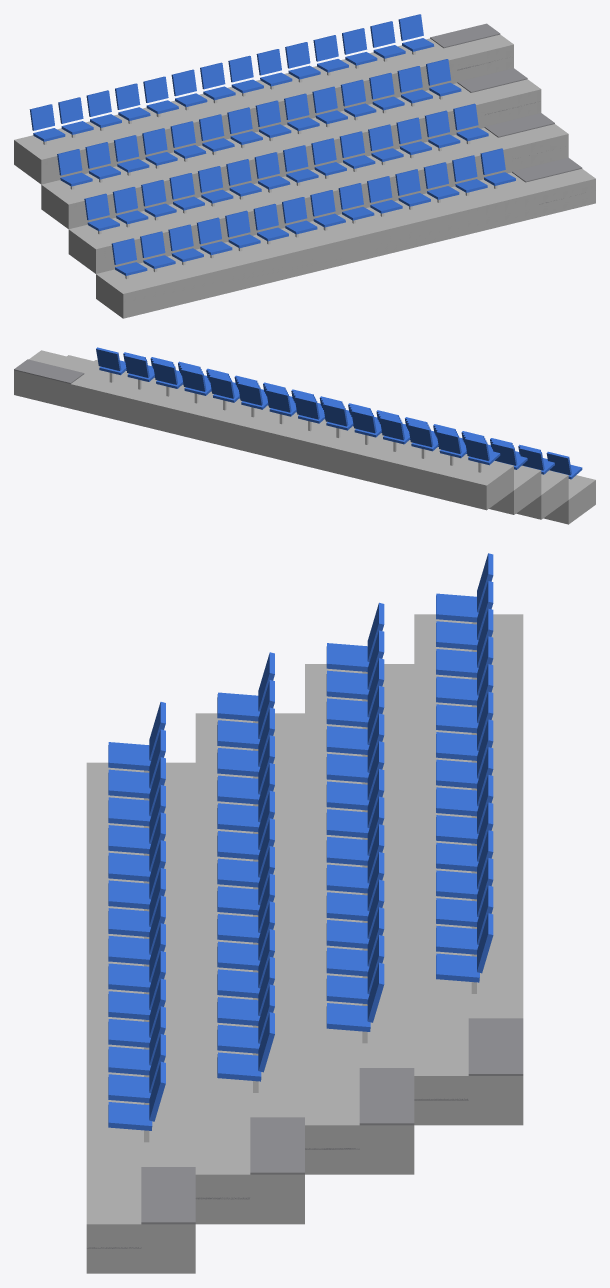
Rendered from Stadium seating.glb.
3 views of the same model, one above another, from view 1: azimuth 30°, elevation 25°; view 2: azimuth 150°, elevation 25°; view 3: azimuth 270°, elevation 25° (orthographic). The views are drawn at different scales.
Parts seen in each view (by area): view 1: MetaAthletics_Tier_0_Concrete, MetaAthletics_Tier_2_Concrete, MetaAthletics_Tier_1_Concrete, MetaAthletics_Tier_3_Concrete, MetaAthletics_Tier_3_Stair_2, MetaAthletics_Tier_1_Stair_2, MetaAthletics_Tier_2_Stair_2, MetaAthletics_Tier_0_Stair_2, MetaAthletics_Seat_3_7_Back, MetaAthletics_Seat_0_2_Back, MetaAthletics_Seat_0_4_Back, MetaAthletics_Seat_0_12_Back (+52 smaller); view 2: MetaAthletics_Tier_3_Concrete, MetaAthletics_Tier_2_Concrete, MetaAthletics_Tier_1_Concrete, MetaAthletics_Tier_0_Concrete, MetaAthletics_Tier_3_Stair_2, MetaAthletics_Seat_3_2_Back, MetaAthletics_Seat_3_11_Back, MetaAthletics_Seat_3_12_Back, MetaAthletics_Seat_3_1_Back, MetaAthletics_Seat_3_4_Back, MetaAthletics_Seat_3_5_Back, MetaAthletics_Seat_3_6_Back (+10 smaller); view 3: MetaAthletics_Tier_1_Concrete, MetaAthletics_Tier_0_Concrete, MetaAthletics_Tier_3_Concrete, MetaAthletics_Tier_2_Concrete, MetaAthletics_Tier_3_Stair_2, MetaAthletics_Tier_2_Stair_2, MetaAthletics_Tier_0_Stair_2, MetaAthletics_Tier_1_Stair_2, MetaAthletics_Seat_1_13_Pan, MetaAthletics_Seat_2_13_Pan, MetaAthletics_Seat_0_13_Pan, MetaAthletics_Seat_3_13_Pan (+52 smaller).
Boxes of the visible parts, x1=… form: MetaAthletics_Tier_0_Concrete: x1=96, y1=168, x2=595, y2=318; MetaAthletics_Tier_2_Concrete: x1=41, y1=79, x2=541, y2=229; MetaAthletics_Tier_1_Concrete: x1=68, y1=124, x2=568, y2=273; MetaAthletics_Tier_3_Concrete: x1=14, y1=34, x2=513, y2=184; MetaAthletics_Tier_3_Stair_2: x1=430, y1=23, x2=500, y2=48; MetaAthletics_Tier_1_Stair_2: x1=484, y1=113, x2=554, y2=137; MetaAthletics_Tier_2_Stair_2: x1=457, y1=68, x2=527, y2=92; MetaAthletics_Tier_0_Stair_2: x1=512, y1=157, x2=582, y2=182; MetaAthletics_Seat_3_7_Back: x1=228, y1=55, x2=253, y2=82; MetaAthletics_Seat_0_2_Back: x1=168, y1=224, x2=193, y2=250; MetaAthletics_Seat_0_4_Back: x1=225, y1=210, x2=250, y2=237; MetaAthletics_Seat_0_12_Back: x1=452, y1=155, x2=477, y2=181; MetaAthletics_Tier_3_Concrete: x1=14, y1=350, x2=513, y2=510; MetaAthletics_Tier_2_Concrete: x1=67, y1=355, x2=541, y2=514; MetaAthletics_Tier_1_Concrete: x1=94, y1=360, x2=568, y2=519; MetaAthletics_Tier_0_Concrete: x1=543, y1=475, x2=595, y2=524; MetaAthletics_Tier_3_Stair_2: x1=14, y1=359, x2=84, y2=383; MetaAthletics_Seat_3_2_Back: x1=408, y1=423, x2=433, y2=447; MetaAthletics_Seat_3_11_Back: x1=152, y1=361, x2=177, y2=384; MetaAthletics_Seat_3_12_Back: x1=124, y1=354, x2=149, y2=377; MetaAthletics_Seat_3_1_Back: x1=436, y1=430, x2=461, y2=454; MetaAthletics_Seat_3_4_Back: x1=351, y1=409, x2=376, y2=433; MetaAthletics_Seat_3_5_Back: x1=323, y1=402, x2=348, y2=426; MetaAthletics_Seat_3_6_Back: x1=294, y1=396, x2=319, y2=419; MetaAthletics_Tier_1_Concrete: x1=195, y1=713, x2=304, y2=1224; MetaAthletics_Tier_0_Concrete: x1=86, y1=762, x2=195, y2=1273; MetaAthletics_Tier_3_Concrete: x1=414, y1=614, x2=523, y2=1125; MetaAthletics_Tier_2_Concrete: x1=305, y1=664, x2=414, y2=1174; MetaAthletics_Tier_3_Stair_2: x1=468, y1=1018, x2=523, y2=1075; MetaAthletics_Tier_2_Stair_2: x1=359, y1=1068, x2=414, y2=1125; MetaAthletics_Tier_0_Stair_2: x1=141, y1=1167, x2=195, y2=1224; MetaAthletics_Tier_1_Stair_2: x1=250, y1=1117, x2=304, y2=1174; MetaAthletics_Seat_1_13_Pan: x1=217, y1=1052, x2=261, y2=1081; MetaAthletics_Seat_2_13_Pan: x1=326, y1=1003, x2=370, y2=1031; MetaAthletics_Seat_0_13_Pan: x1=108, y1=1102, x2=152, y2=1130; MetaAthletics_Seat_3_13_Pan: x1=436, y1=953, x2=479, y2=982.
Size of the model in its own units: 10 by 2.7 by 4.
